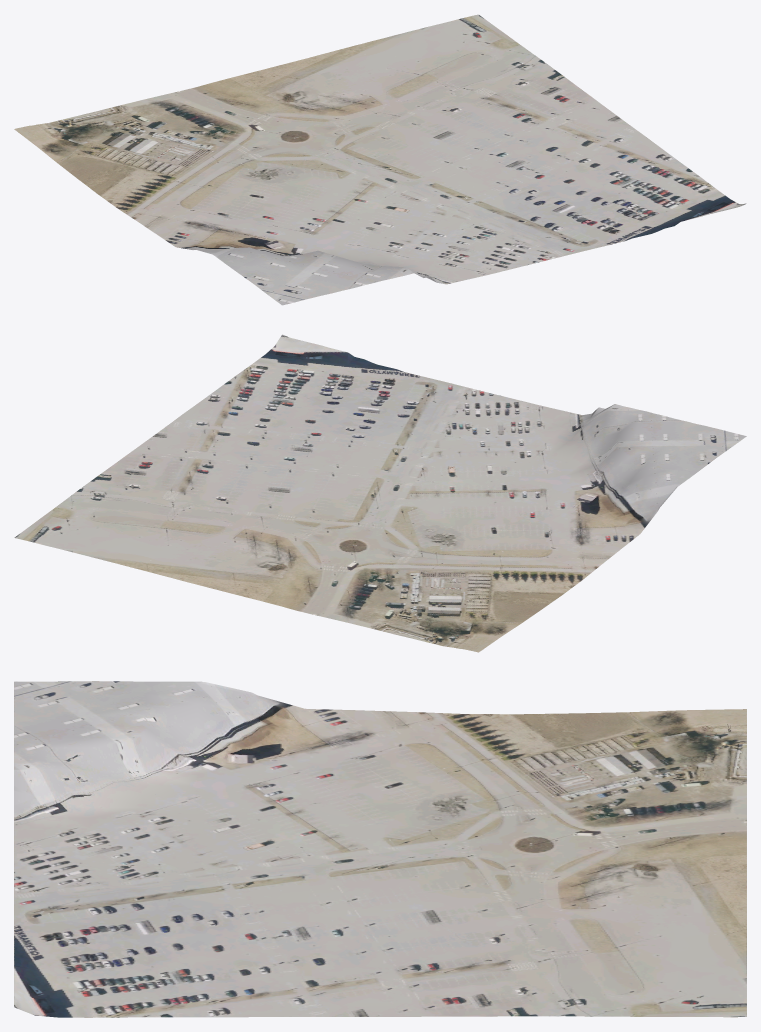
File: CM_Terrain_24491278_6818565.fbx
3 views of the same model, one above another, from view 1: azimuth 30°, elevation 25°; view 2: azimuth 150°, elevation 25°; view 3: azimuth 270°, elevation 25° (orthographic). The views are drawn at different scales.
Parts seen in each view (by area): view 1: CM_Terrain_24491278_6818565_LOD0; view 2: CM_Terrain_24491278_6818565_LOD0; view 3: CM_Terrain_24491278_6818565_LOD0.
Boxes of the visible parts, left/top/right/bottom form: CM_Terrain_24491278_6818565_LOD0: left=14, top=14, right=746, bottom=305; CM_Terrain_24491278_6818565_LOD0: left=14, top=334, right=746, bottom=652; CM_Terrain_24491278_6818565_LOD0: left=14, top=681, right=746, bottom=1017.
Size of what is drawn, in the model's own units: 205 by 10.27 by 205.
